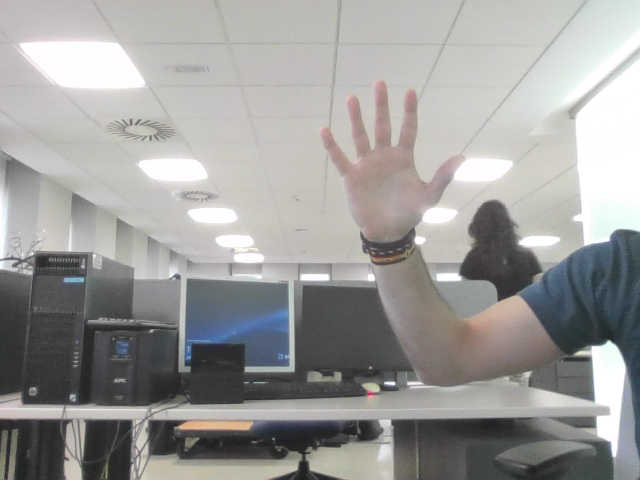Mano Abierta: (328, 93, 449, 210)
